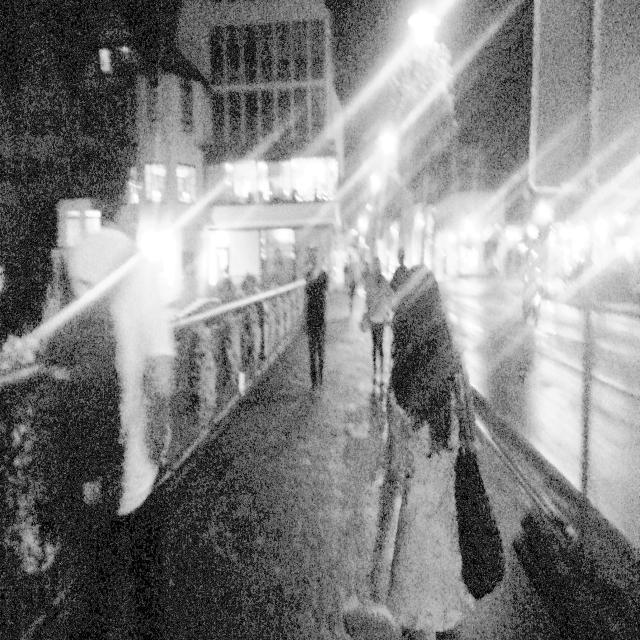Bicycle: (505, 237, 559, 337)
Person: (50, 138, 174, 572), (393, 268, 500, 640), (295, 235, 335, 401), (362, 227, 392, 395), (393, 217, 415, 318)
